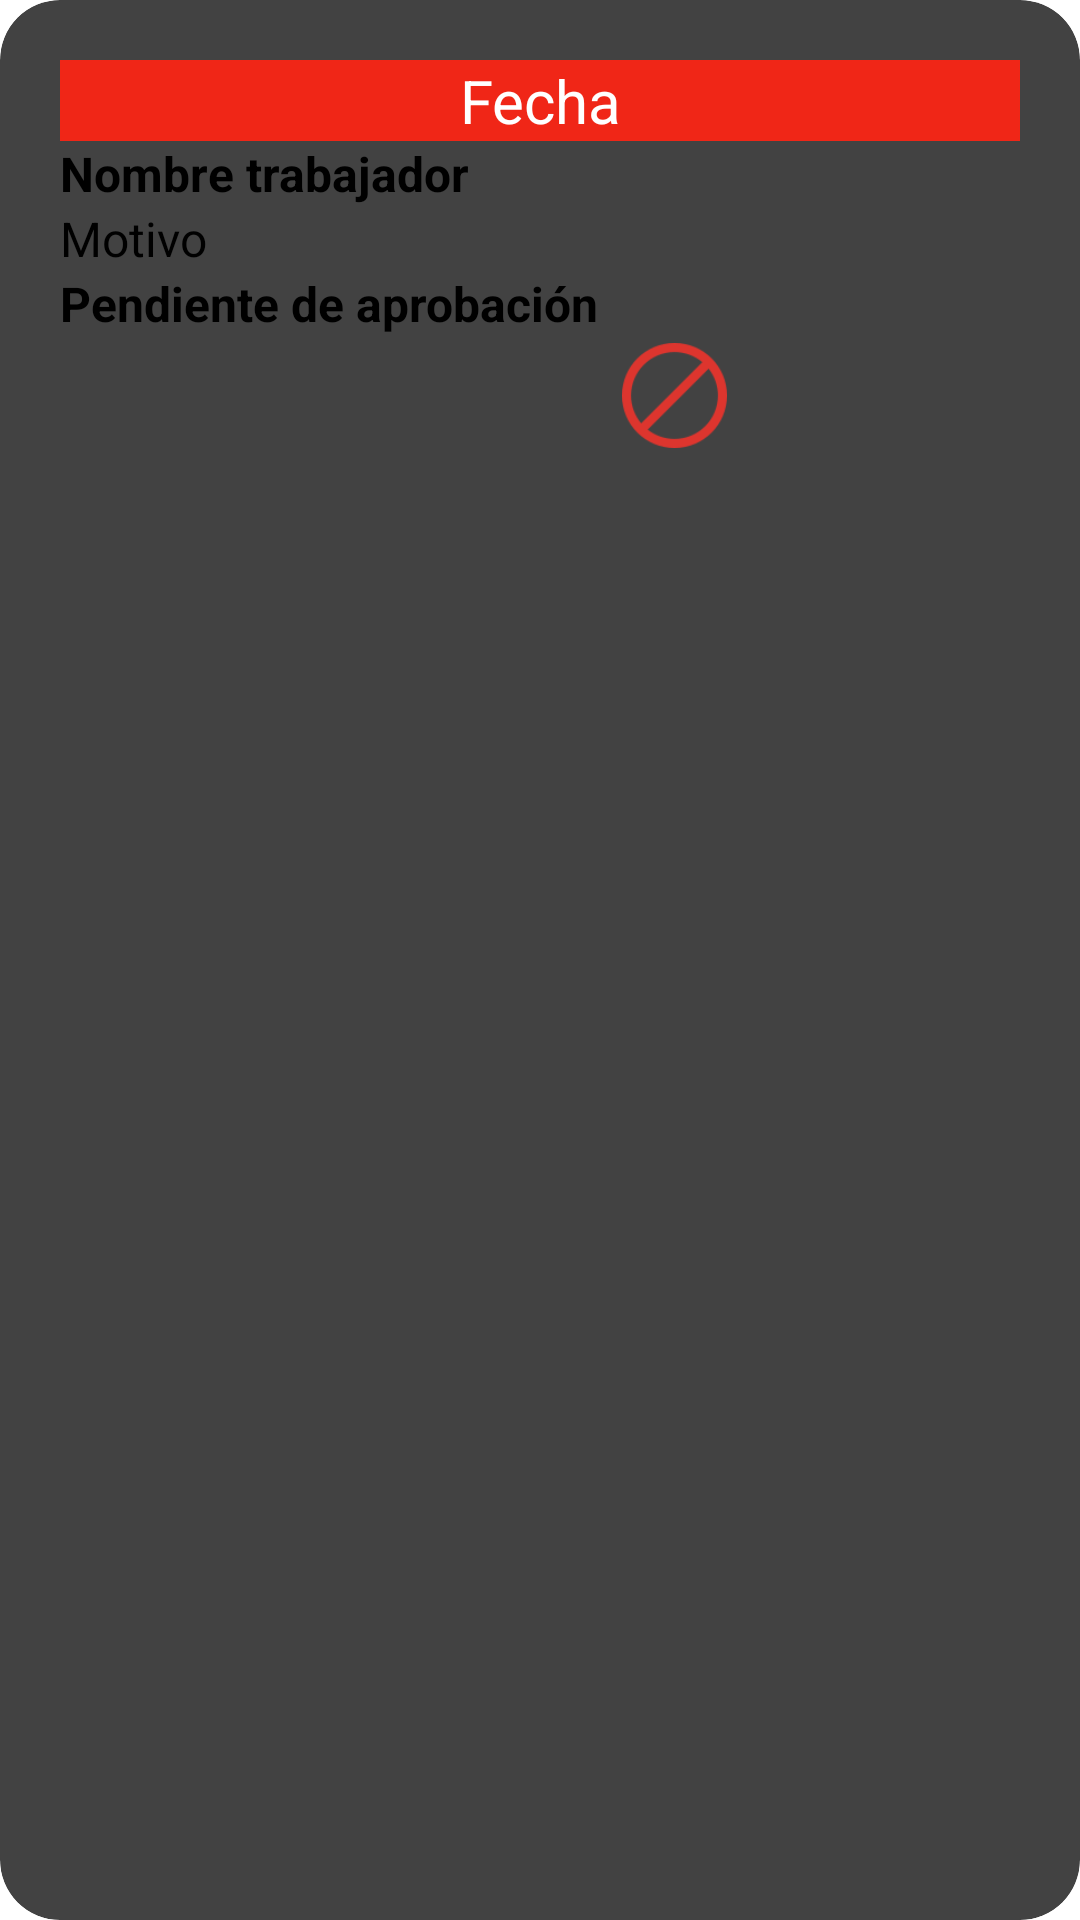

Icon click points for this 1080×1920 phone screenshot, format (x=x, y=y):
forbidden: (x=674, y=395)
